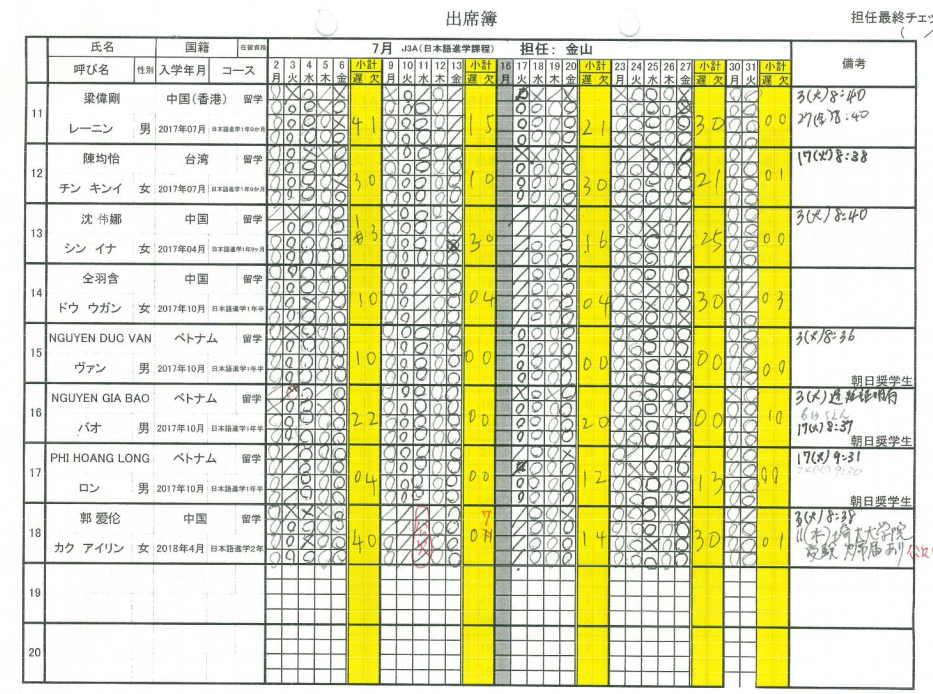/: (414, 84, 432, 101), (267, 384, 283, 400), (268, 219, 284, 234), (283, 459, 299, 474), (448, 115, 463, 131), (448, 130, 463, 146), (530, 206, 546, 221), (512, 206, 528, 221), (529, 221, 545, 236), (512, 295, 528, 310), (626, 446, 642, 461), (396, 505, 412, 520), (282, 474, 299, 488), (627, 147, 644, 161), (317, 85, 332, 100), (316, 385, 331, 400), (546, 86, 561, 101), (742, 146, 757, 161), (741, 507, 756, 522), (380, 505, 395, 520), (397, 534, 412, 549), (282, 488, 298, 502), (448, 101, 464, 115), (643, 207, 659, 221), (512, 222, 528, 236), (512, 236, 528, 250), (513, 251, 529, 265), (414, 295, 430, 309), (513, 281, 529, 295), (642, 447, 658, 461), (511, 446, 527, 460), (512, 551, 528, 565), (381, 520, 397, 534), (430, 505, 446, 519), (448, 86, 463, 100), (676, 207, 691, 221), (677, 222, 692, 236), (676, 237, 691, 251), (676, 252, 691, 266), (414, 280, 429, 294), (513, 267, 528, 281), (513, 311, 528, 325), (742, 282, 757, 296), (742, 297, 757, 311), (513, 522, 528, 536), (512, 536, 527, 550), (397, 520, 412, 534), (397, 550, 412, 564), (414, 266, 430, 279), (414, 310, 430, 323), (742, 268, 758, 281), (676, 447, 690, 461), (512, 507, 526, 521), (283, 446, 298, 458)
o: (446, 185, 463, 204), (300, 186, 317, 204), (315, 294, 334, 310), (414, 159, 432, 175), (300, 99, 316, 116), (300, 128, 316, 145), (332, 145, 348, 162), (268, 248, 284, 265), (283, 248, 300, 264), (267, 293, 283, 310), (282, 159, 300, 174), (299, 265, 317, 280), (282, 354, 300, 369), (314, 445, 333, 459), (317, 250, 333, 266), (300, 310, 316, 326), (300, 324, 316, 340), (299, 354, 315, 370), (266, 443, 282, 459), (314, 459, 330, 475), (268, 280, 285, 295), (285, 309, 300, 326), (267, 338, 284, 353), (315, 355, 332, 370), (331, 354, 348, 369), (266, 534, 283, 549), (398, 146, 415, 161), (414, 176, 431, 191), (265, 369, 283, 383), (382, 130, 400, 144), (414, 130, 432, 144), (268, 84, 284, 99), (316, 128, 331, 144), (268, 159, 283, 175), (283, 174, 299, 189), (333, 265, 349, 280), (267, 324, 283, 339), (267, 353, 282, 369), (300, 385, 316, 400), (331, 384, 346, 400), (331, 443, 347, 458), (399, 84, 414, 100), (432, 86, 448, 101), (331, 191, 348, 205), (316, 325, 333, 339), (300, 401, 317, 415), (298, 414, 315, 428), (266, 549, 283, 563), (430, 190, 447, 204), (268, 115, 283, 130), (300, 114, 315, 129), (284, 205, 299, 220), (285, 295, 300, 310), (332, 294, 347, 309), (334, 325, 349, 340), (331, 415, 346, 430), (267, 504, 282, 519), (317, 520, 332, 535), (332, 548, 347, 563), (431, 100, 446, 115), (447, 160, 462, 175), (286, 114, 300, 130), (283, 100, 299, 114), (300, 83, 314, 99), (332, 130, 348, 144), (317, 176, 331, 192), (269, 188, 283, 204), (300, 206, 316, 220), (283, 265, 299, 279), (268, 311, 284, 325), (316, 340, 332, 354), (300, 339, 316, 353), (266, 414, 282, 428), (316, 430, 332, 444), (299, 459, 313, 475), (315, 475, 331, 489), (300, 520, 314, 536), (284, 520, 300, 534), (434, 129, 448, 145), (317, 310, 334, 323), (266, 520, 283, 533), (414, 147, 431, 160), (431, 147, 448, 160), (317, 114, 331, 129), (332, 101, 347, 115), (267, 175, 282, 189), (317, 206, 332, 220), (284, 221, 299, 235), (334, 250, 348, 265), (319, 265, 333, 280), (285, 280, 300, 294), (333, 368, 348, 382), (283, 385, 298, 399), (332, 399, 346, 414), (332, 429, 347, 443), (283, 428, 298, 442), (267, 459, 281, 474), (268, 474, 282, 489), (300, 483, 314, 498), (332, 520, 346, 535), (383, 100, 398, 114), (384, 116, 398, 131), (384, 161, 399, 175), (316, 192, 332, 205), (268, 236, 284, 249), (333, 340, 349, 353), (284, 340, 300, 353), (300, 370, 316, 383), (316, 416, 332, 429), (299, 429, 315, 442), (266, 429, 282, 442), (282, 533, 295, 549), (316, 535, 332, 548), (300, 550, 316, 563), (398, 101, 414, 114), (385, 175, 398, 191), (399, 191, 415, 204), (301, 281, 318, 293), (283, 371, 300, 383), (332, 459, 344, 476), (415, 102, 432, 114), (269, 100, 283, 114), (268, 130, 282, 144), (285, 146, 299, 160), (318, 161, 332, 175), (285, 190, 299, 204), (318, 280, 332, 294), (284, 400, 298, 414), (332, 490, 346, 504), (401, 116, 415, 130), (384, 191, 398, 205), (333, 206, 348, 219), (334, 221, 349, 234), (316, 236, 331, 249), (285, 234, 298, 249), (268, 266, 283, 279), (316, 370, 331, 383), (283, 415, 298, 428), (266, 489, 281, 502), (299, 446, 314, 459), (332, 476, 345, 491), (316, 490, 331, 503), (331, 535, 346, 548), (447, 147, 462, 160), (432, 161, 447, 174), (398, 161, 413, 174), (414, 189, 427, 204), (301, 160, 317, 172), (300, 173, 316, 185), (317, 222, 333, 234), (284, 131, 298, 144), (332, 162, 346, 175), (269, 206, 283, 219), (301, 221, 315, 234), (301, 250, 314, 264), (332, 310, 346, 323), (332, 505, 345, 519), (317, 549, 330, 563), (284, 549, 298, 562), (431, 177, 444, 191), (432, 116, 447, 128), (447, 175, 462, 187), (333, 236, 346, 249), (398, 176, 411, 189), (269, 147, 283, 159), (400, 131, 414, 143), (416, 114, 428, 128), (301, 236, 314, 248), (333, 281, 347, 292), (298, 475, 313, 483)
x: (298, 504, 316, 519), (529, 146, 545, 162), (332, 115, 347, 131), (530, 85, 545, 101), (562, 86, 578, 101), (612, 86, 628, 101), (676, 87, 692, 102), (513, 146, 529, 161), (511, 386, 528, 400), (642, 537, 659, 551), (333, 85, 348, 100), (611, 207, 626, 222), (644, 221, 659, 236), (316, 400, 332, 414), (299, 535, 315, 549), (643, 297, 659, 311), (544, 386, 560, 400), (725, 387, 741, 401), (659, 508, 675, 522), (560, 507, 576, 521), (302, 145, 316, 160), (384, 85, 398, 100), (562, 146, 576, 161), (661, 147, 676, 161), (561, 206, 575, 221), (644, 282, 659, 296), (561, 446, 576, 460), (675, 507, 690, 521), (383, 206, 398, 220), (447, 205, 461, 220), (332, 177, 348, 190), (284, 326, 300, 339), (317, 101, 331, 115), (317, 145, 331, 159), (284, 505, 298, 519), (383, 146, 397, 160), (286, 85, 299, 100), (301, 296, 316, 309), (268, 401, 284, 413), (644, 148, 660, 160), (317, 506, 331, 519), (627, 462, 641, 475), (677, 312, 690, 325)
